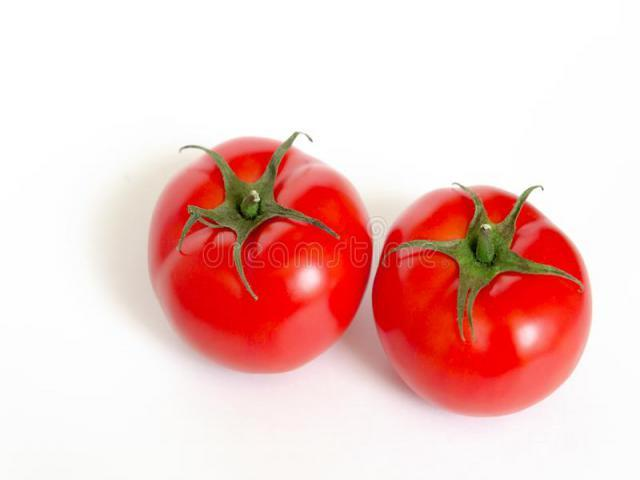tomato: (360, 170, 602, 429), (140, 129, 378, 383)
